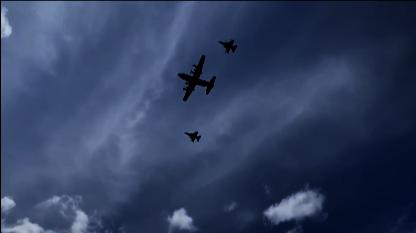Be200: (176, 54, 216, 100)
F14: (218, 38, 236, 52), (184, 130, 200, 142)
